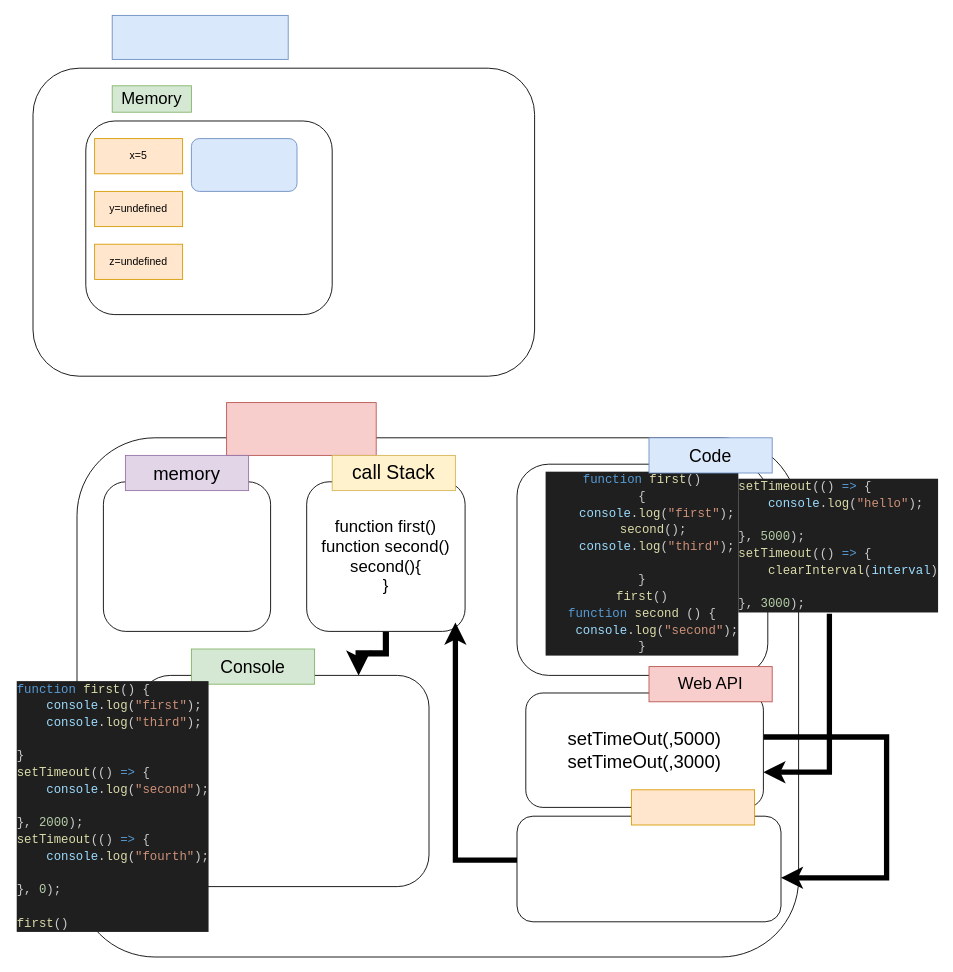
This 953x972 diagram has some shape labels left out. The centre of each missing label's shape, as x and y in pixels:
"=> first =>second => third" goes at pixel 283 781.
"Call Back Queue" goes at pixel 693 807.
"Fnction sum()" goes at pixel 244 164.
"Global Context" goes at pixel 301 428.
"SetTimeOue(,3000) SetTimeOut(,5000)" goes at pixel 648 868.
"Virtual Global Context" goes at pixel 199 37.
